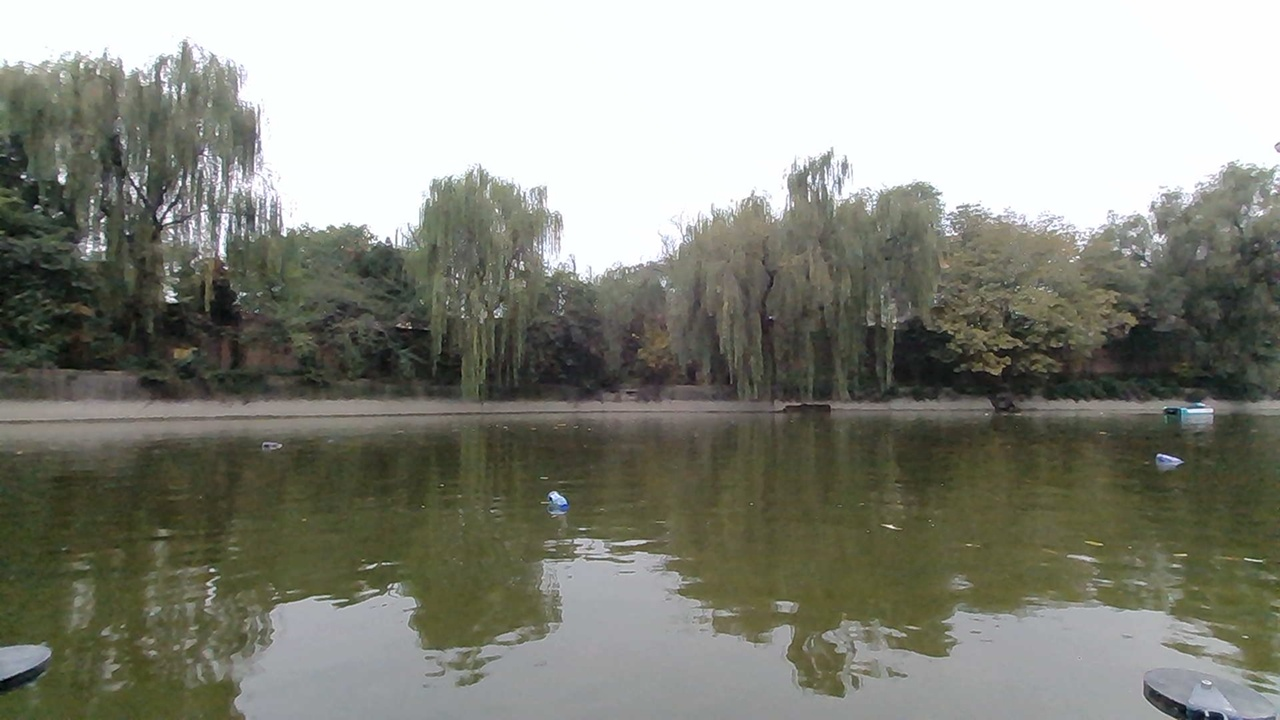bottle: (534, 483, 584, 520), (1145, 441, 1190, 475), (256, 423, 288, 457)
